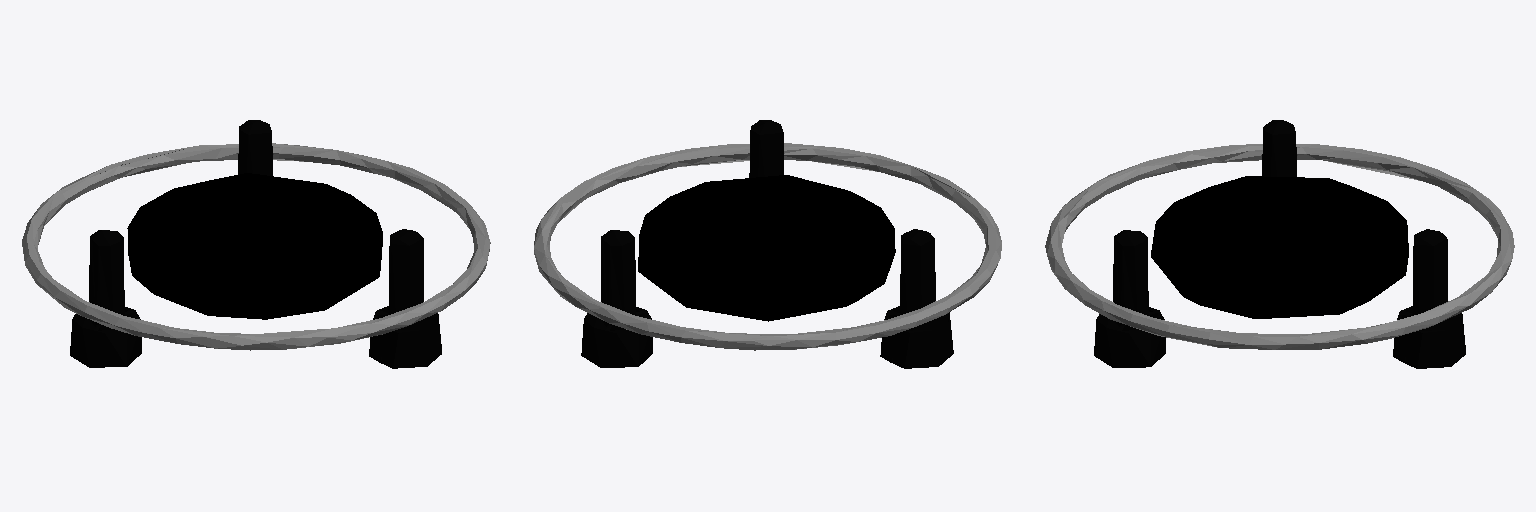
File: smarte_high.obj
3 views of the same model, side by side, from view 1: azimuth 30°, elevation 25°; view 2: azimuth 150°, elevation 25°; view 3: azimuth 270°, elevation 25° (orthographic).
Size of the model in its own units: 5.85 by 1.7 by 5.85.